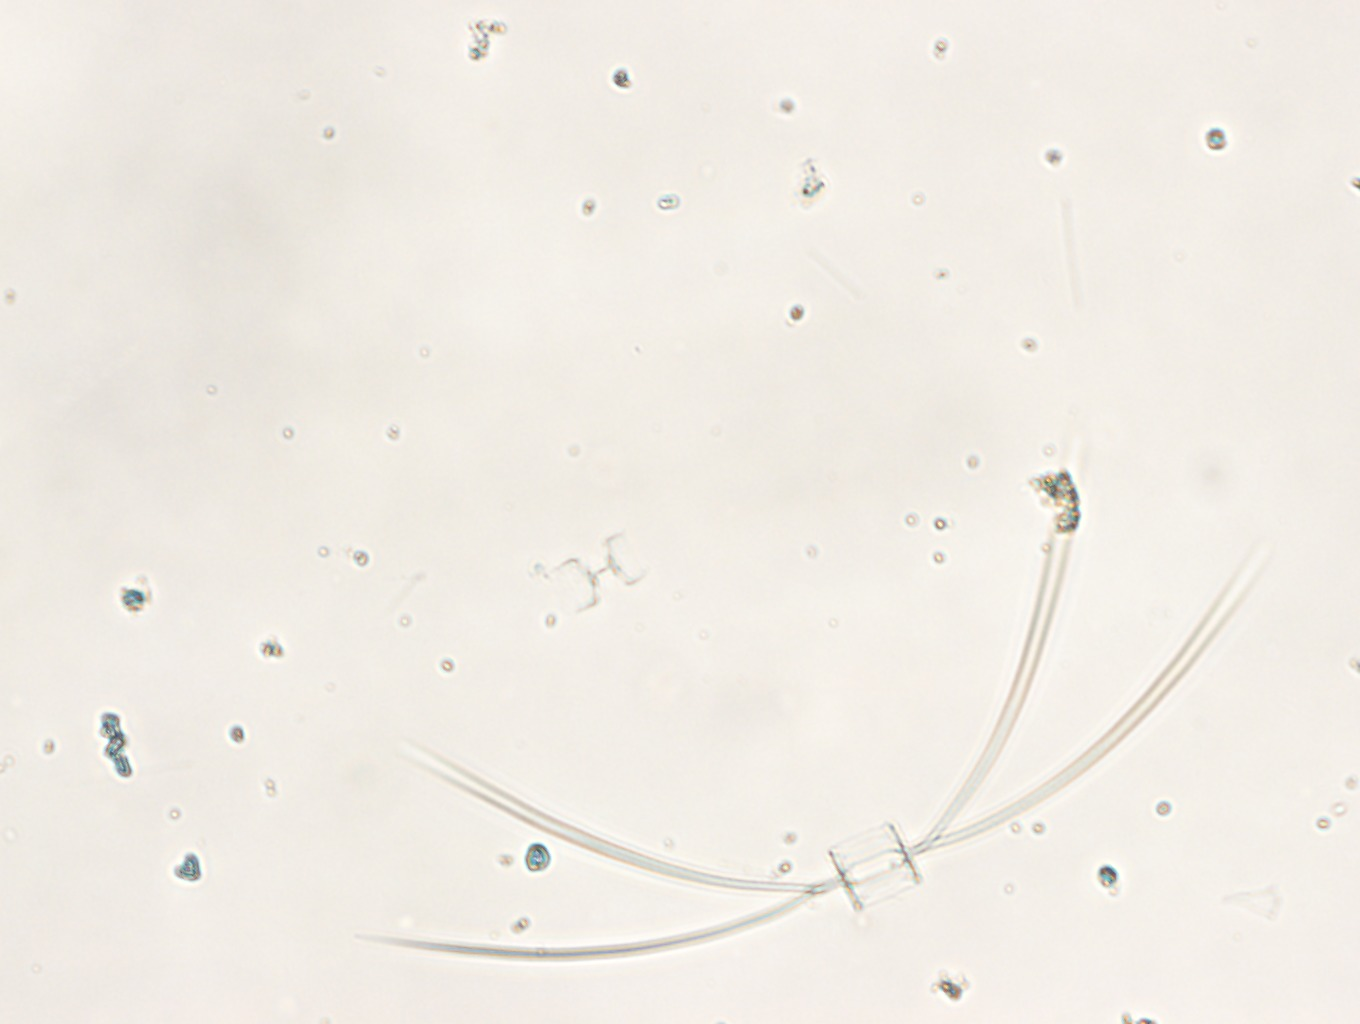chaetoceros: (359, 518, 1252, 961)
